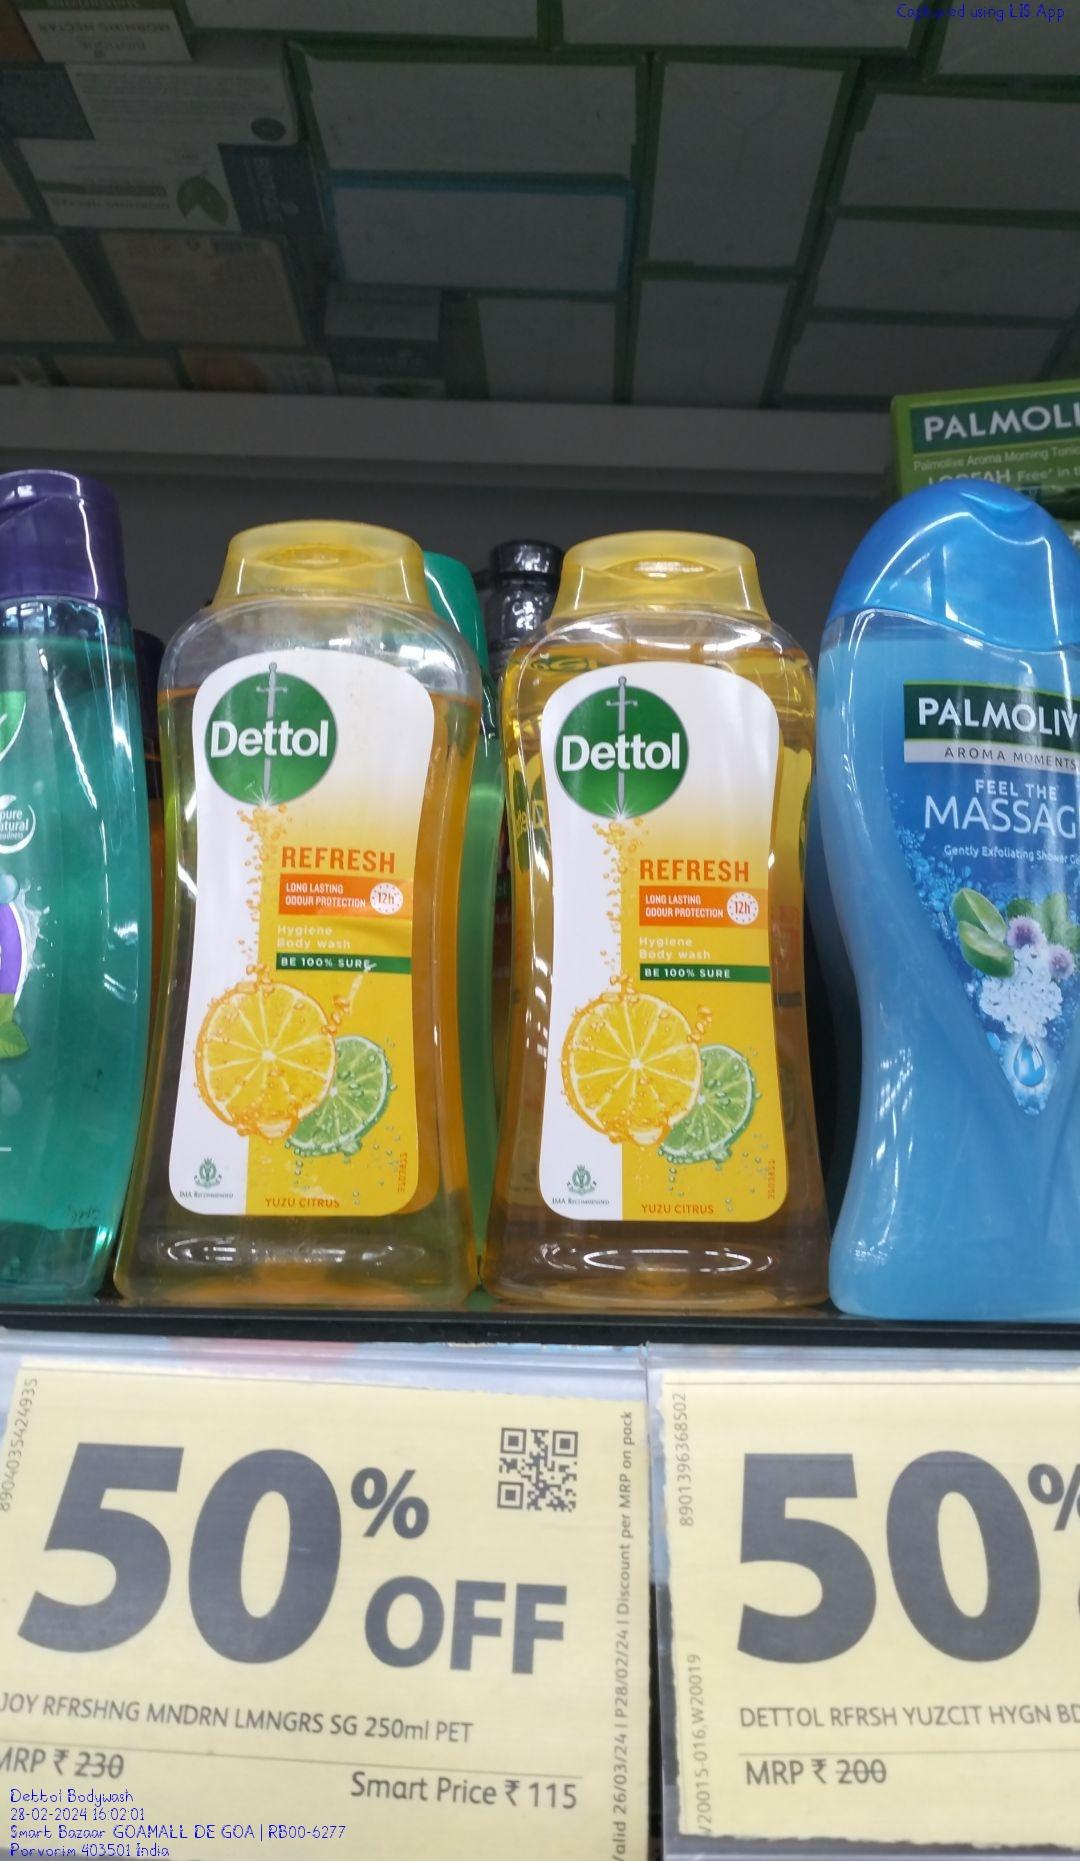Dettol_Bodywash_Refresh: (131, 515, 480, 1325), (498, 533, 806, 1312)
